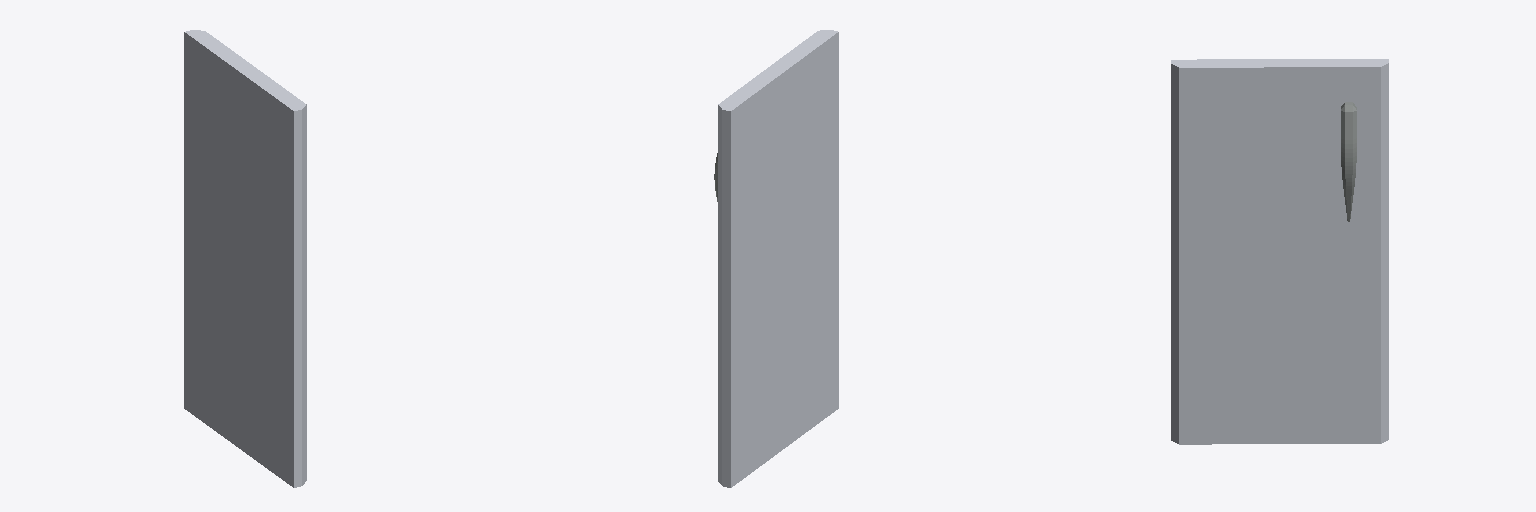
The picture shows the model from 3 angles: view 1: azimuth 30°, elevation 25°; view 2: azimuth 150°, elevation 25°; view 3: azimuth 270°, elevation 25°; orthographic projection.
Parts seen in each view (by area): view 1: puertaRefriAbajo:pCube9; view 2: puertaRefriAbajo:pCube9; view 3: puertaRefriAbajo:pCube9.
Part boxes in pixels (x1,y1,x2,y2): puertaRefriAbajo:pCube9: (184, 30, 306, 487); puertaRefriAbajo:pCube9: (714, 30, 838, 487); puertaRefriAbajo:pCube9: (1171, 59, 1388, 444).
Bounding box in the file's own units: 0.431 × 4.52 × 2.37.
Materials: 2 (2 with a texture image).